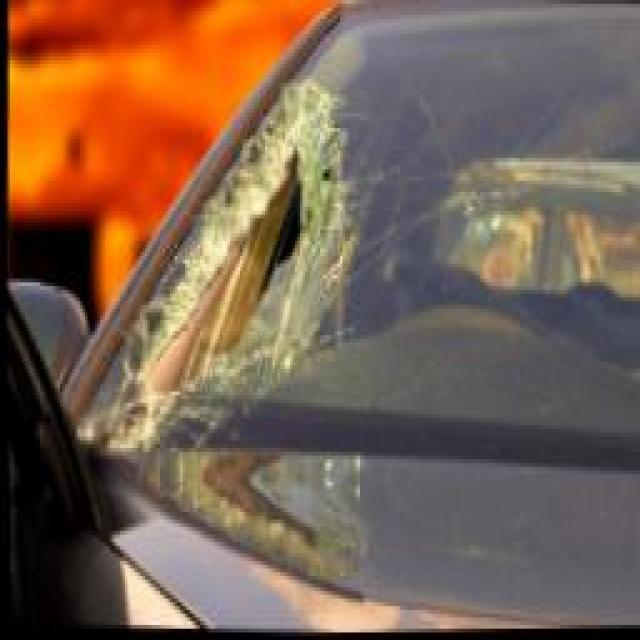Windshield: (78, 0, 596, 567)
